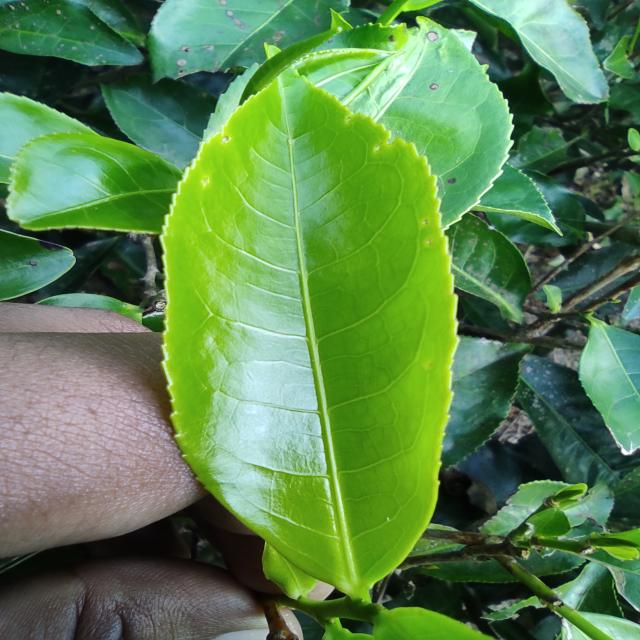Category B(2-4 days): (142, 52, 472, 622)
